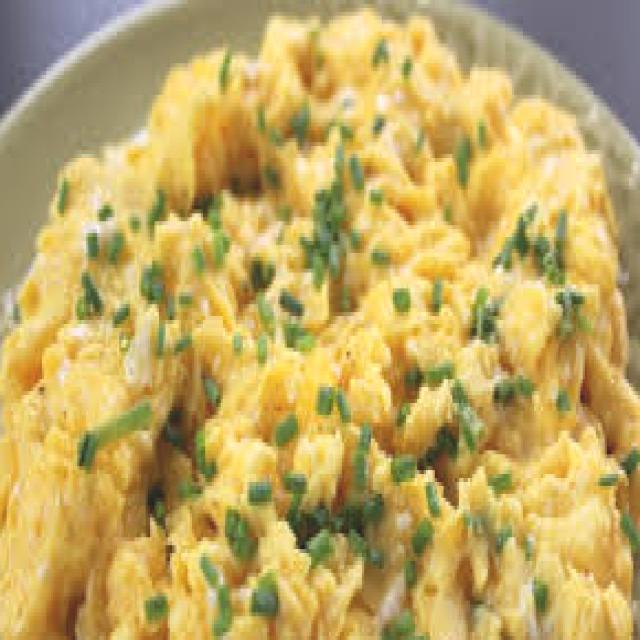telur_orak_arik: (0, 23, 640, 640)
